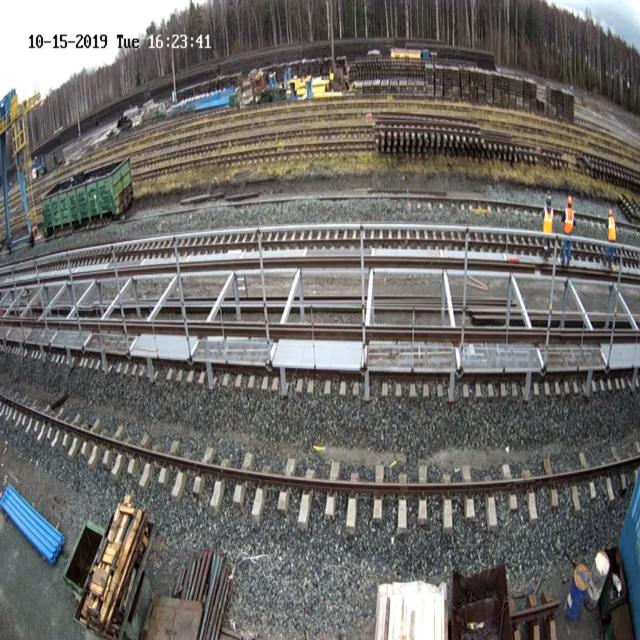Helmet: (546, 196, 551, 204), (608, 208, 613, 216), (568, 196, 572, 205)
Person: (561, 195, 575, 266), (541, 195, 554, 261), (606, 208, 617, 270)
